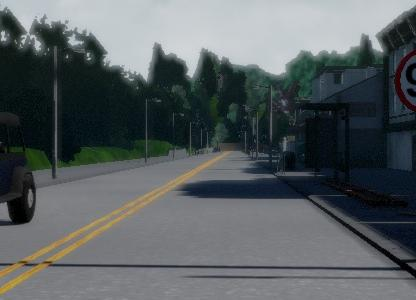Speed_90: (392, 44, 416, 117)
